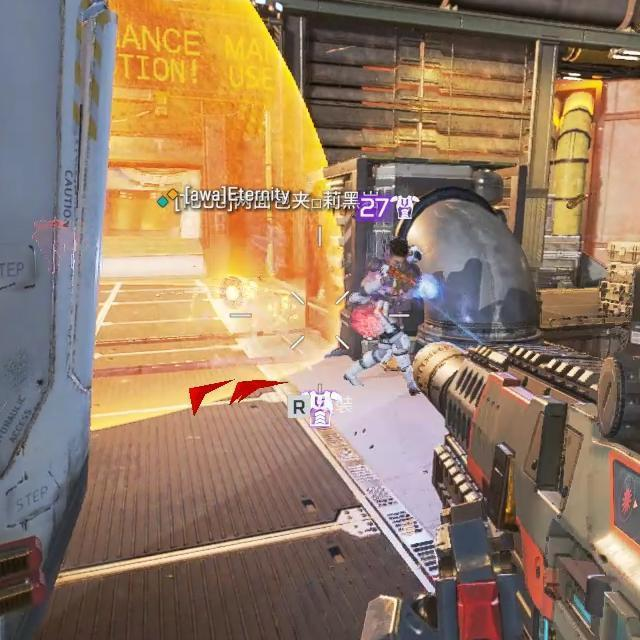avatar: (342, 235, 424, 399)
